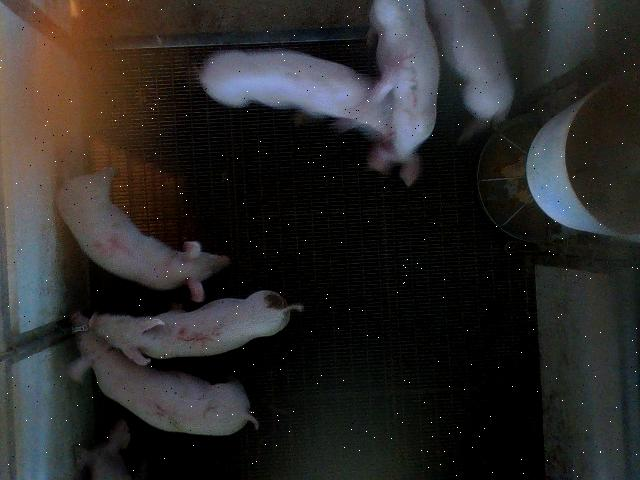pig-3: (368, 1, 439, 186)
pig-4: (56, 167, 230, 301)
pig-5: (88, 291, 304, 365)
